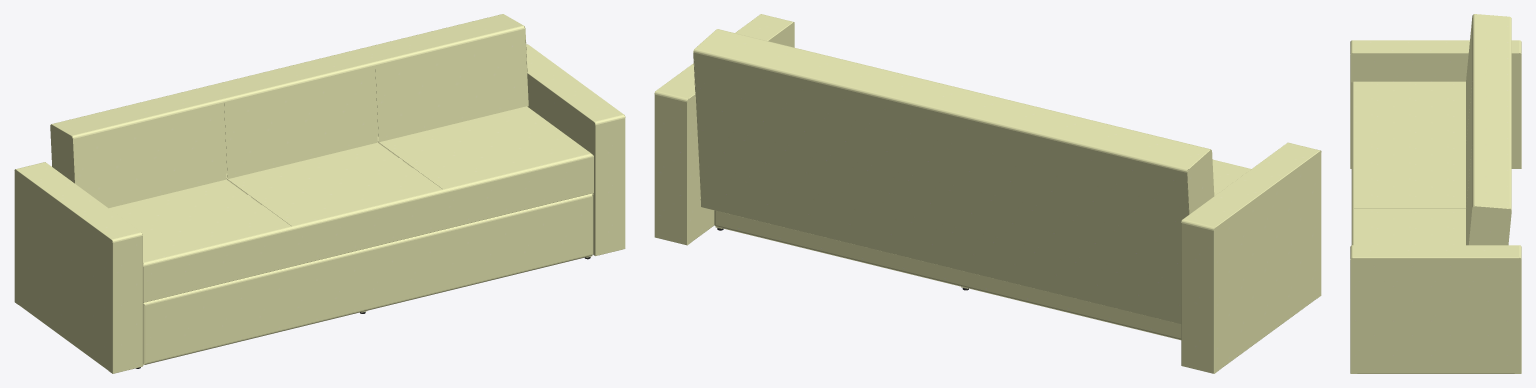
The picture shows the model from 3 angles, left to right: view 1: azimuth 30°, elevation 25°; view 2: azimuth 150°, elevation 25°; view 3: azimuth 270°, elevation 25°; orthographic projection. The views are drawn at different scales.
Parts seen in each view (by area): view 1: c08e13be-4d9e-4544-b6bf-df227f62b33b, 42ecf3a3-bd52-409e-8998-03c19808d06b, f08a25a5-b653-4c55-98f8-f4e67e532d60; view 2: c08e13be-4d9e-4544-b6bf-df227f62b33b, f08a25a5-b653-4c55-98f8-f4e67e532d60, 42ecf3a3-bd52-409e-8998-03c19808d06b; view 3: f08a25a5-b653-4c55-98f8-f4e67e532d60, 42ecf3a3-bd52-409e-8998-03c19808d06b, c08e13be-4d9e-4544-b6bf-df227f62b33b.
Boxes of the visible parts, bbox=[...] form: c08e13be-4d9e-4544-b6bf-df227f62b33b: bbox=[50, 14, 593, 365]; 42ecf3a3-bd52-409e-8998-03c19808d06b: bbox=[109, 106, 593, 302]; f08a25a5-b653-4c55-98f8-f4e67e532d60: bbox=[14, 44, 625, 373]; c08e13be-4d9e-4544-b6bf-df227f62b33b: bbox=[693, 29, 1214, 340]; f08a25a5-b653-4c55-98f8-f4e67e532d60: bbox=[654, 14, 1321, 373]; 42ecf3a3-bd52-409e-8998-03c19808d06b: bbox=[1212, 159, 1250, 195]; f08a25a5-b653-4c55-98f8-f4e67e532d60: bbox=[1350, 40, 1521, 373]; 42ecf3a3-bd52-409e-8998-03c19808d06b: bbox=[1351, 81, 1465, 245]; c08e13be-4d9e-4544-b6bf-df227f62b33b: bbox=[1466, 14, 1511, 245].
Bounding box in the file's own units: 2.21 × 0.7605 × 0.735.
2 materials, 1 textured.
